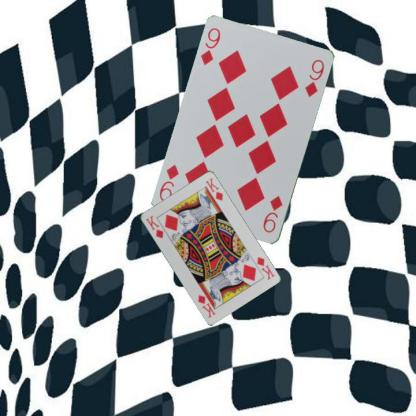9d: (198, 25, 222, 67), (261, 193, 284, 235)
Kd: (143, 212, 165, 240), (254, 254, 276, 281)
